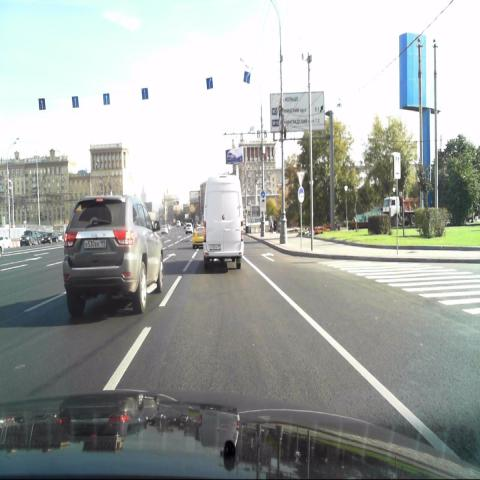2_4: (296, 168, 306, 186)
4_1_2: (297, 186, 305, 203)
5_15_2: (141, 87, 149, 100), (38, 98, 45, 112), (243, 70, 250, 84), (102, 94, 110, 106), (205, 78, 213, 90), (72, 96, 79, 108)
